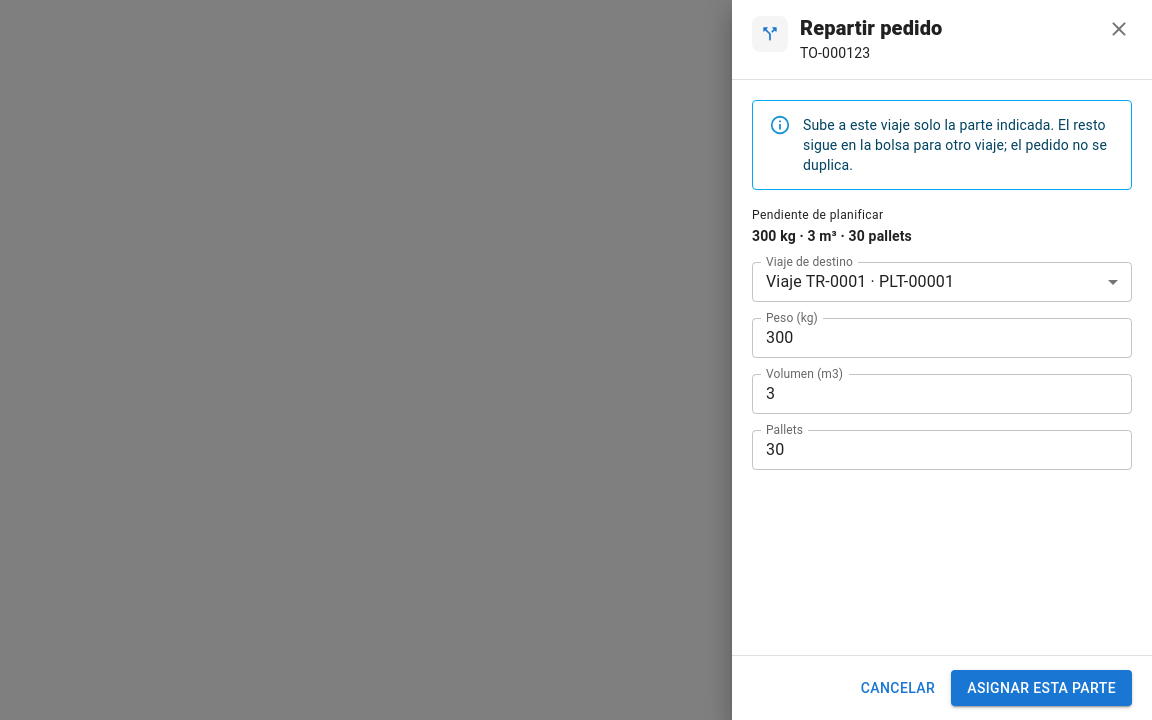
Scenario: el panel de reparto › no deja pedir más de lo que queda pendiente
Replace the text in the number field labelled "Pallets" with "40" at (942, 450), box [752,430,1132,470]
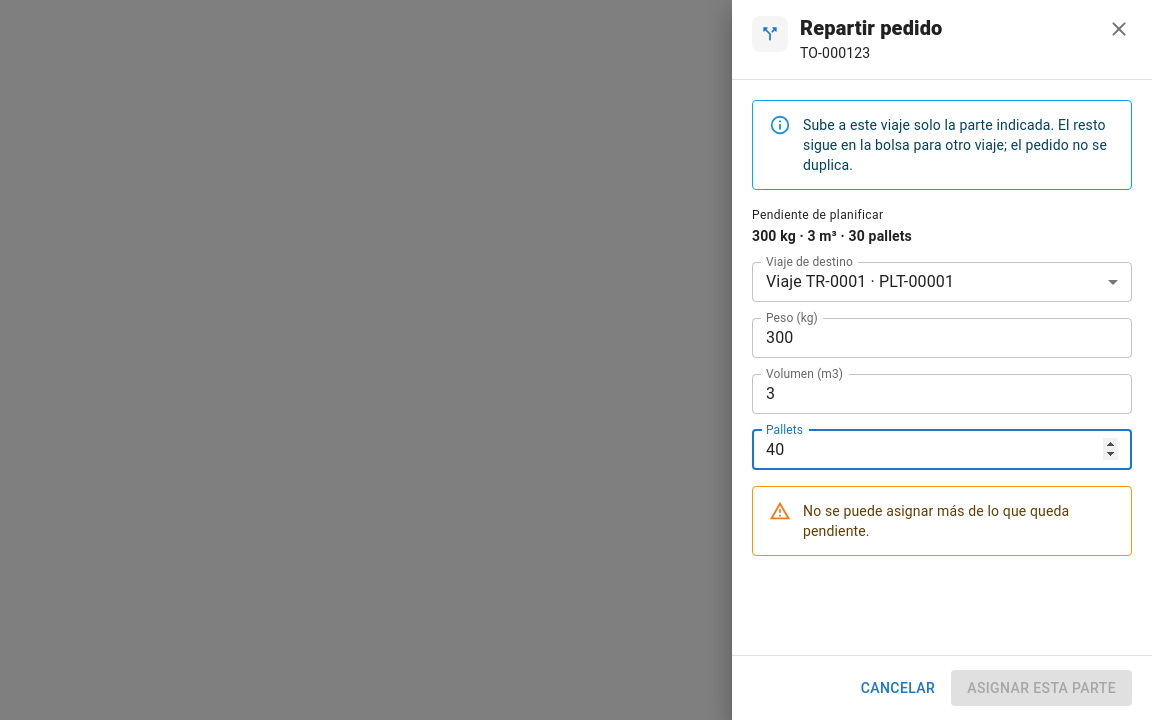
expect the button "Asignar esta parte" is disabled: met, box [951,670,1132,706]
expect the text "No se puede asignar más de lo que queda pendiente." is shown: met, box [803,493,1115,549]
